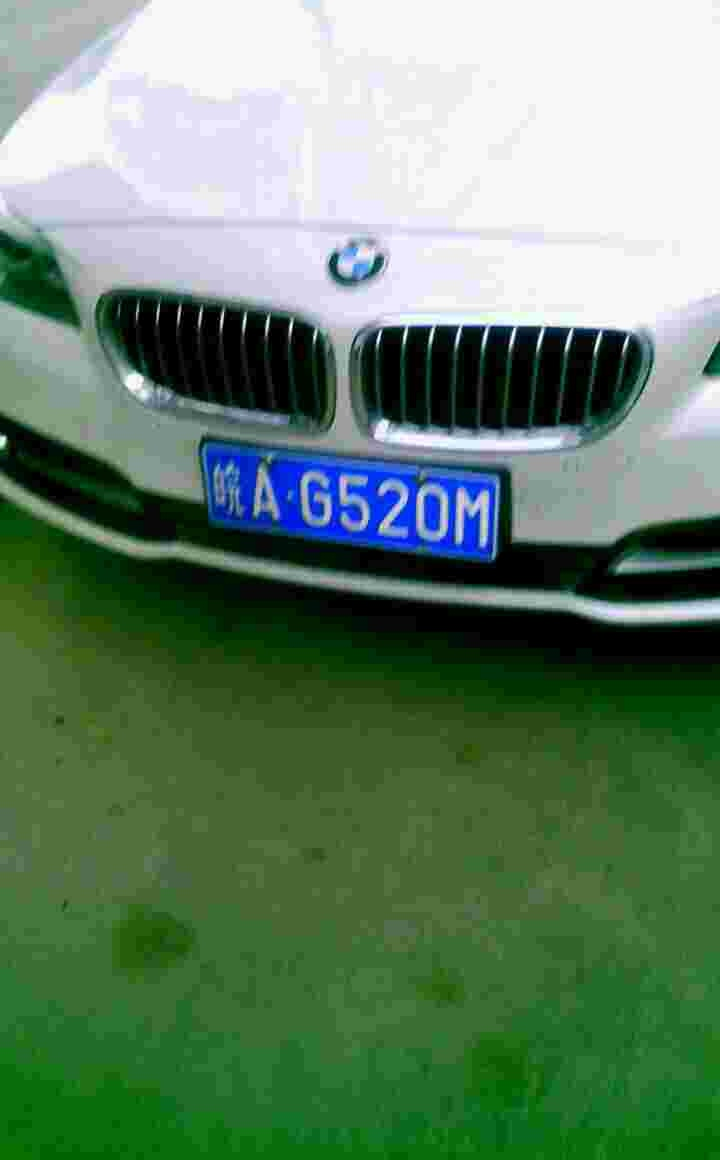license_plate: (210, 453, 487, 548)
